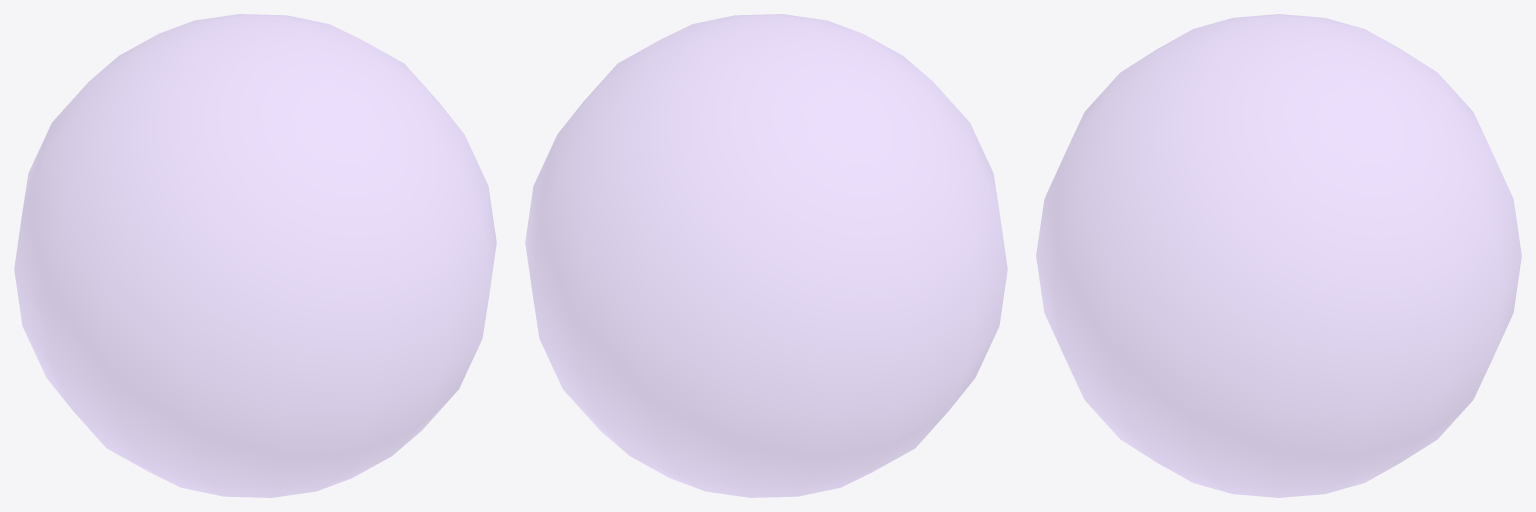
File: bubble.glb
The picture shows the model from 3 angles, left to right: view 1: azimuth 30°, elevation 25°; view 2: azimuth 150°, elevation 25°; view 3: azimuth 270°, elevation 25°; orthographic projection.
Parts seen in each view (by area): view 1: bubble; view 2: bubble; view 3: bubble.
Part boxes in pixels (bbox=[...]): bubble: bbox=[14, 14, 496, 497]; bubble: bbox=[525, 14, 1007, 497]; bubble: bbox=[1036, 14, 1521, 497].
Bounding box in the file's own units: 0.6 × 0.6 × 0.6.
